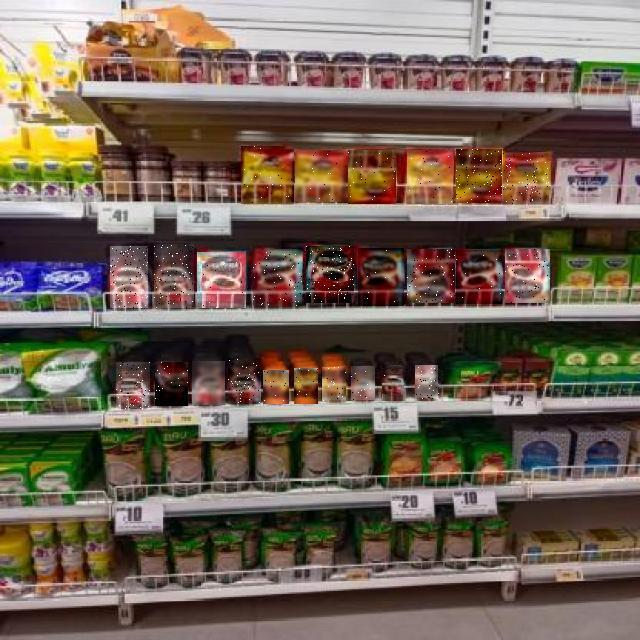Coffee: (241, 147, 294, 205), (197, 252, 246, 308), (306, 246, 354, 303), (296, 150, 348, 202), (253, 251, 302, 306), (358, 248, 404, 306), (349, 150, 397, 204), (407, 249, 455, 303), (154, 244, 194, 308), (456, 149, 502, 203), (407, 150, 453, 204), (456, 250, 502, 304), (505, 249, 550, 303), (110, 246, 148, 308), (503, 153, 549, 204), (116, 362, 150, 410), (228, 359, 260, 405), (192, 361, 225, 405), (155, 363, 188, 407), (263, 370, 289, 404), (294, 368, 318, 404), (416, 366, 440, 400), (351, 366, 375, 400), (323, 368, 347, 402), (382, 366, 404, 400)
